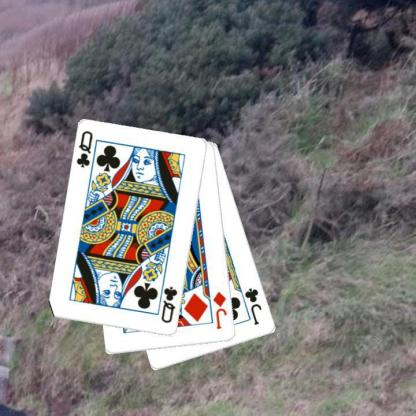JC: (242, 286, 264, 326)
JD: (211, 289, 228, 330)
QC: (74, 128, 94, 170), (159, 284, 179, 324)
